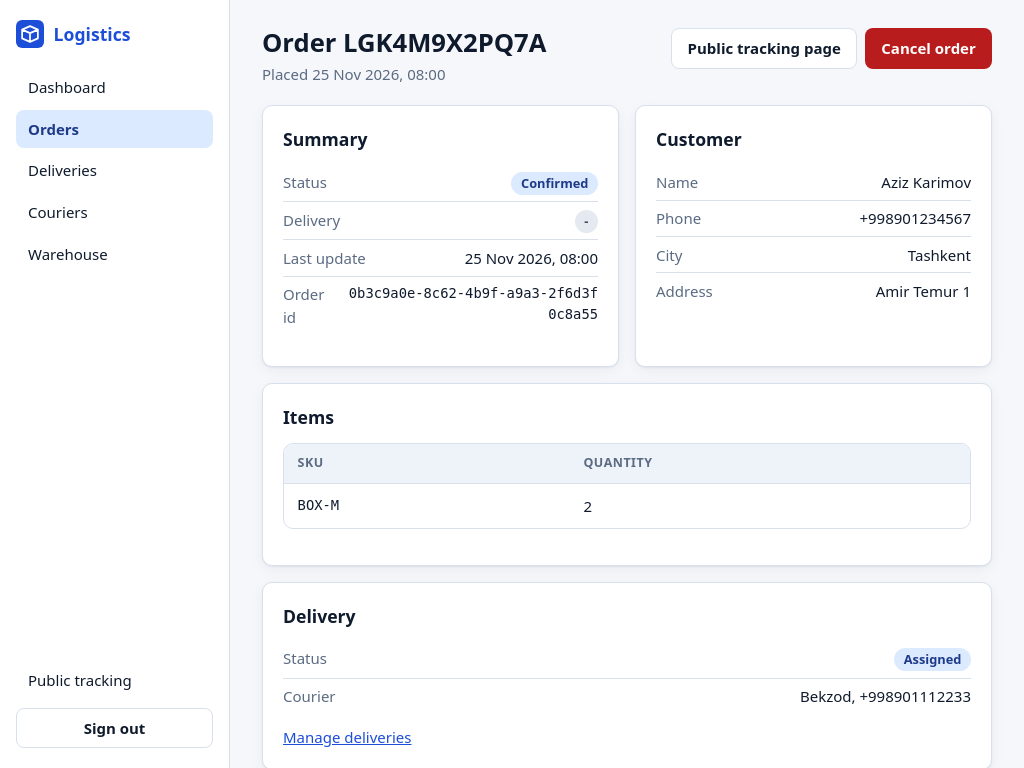
Test: order detail › cancels a confirmed order only after confirmation
Click the button "Cancel order": [929, 48] box [865,28,992,68]
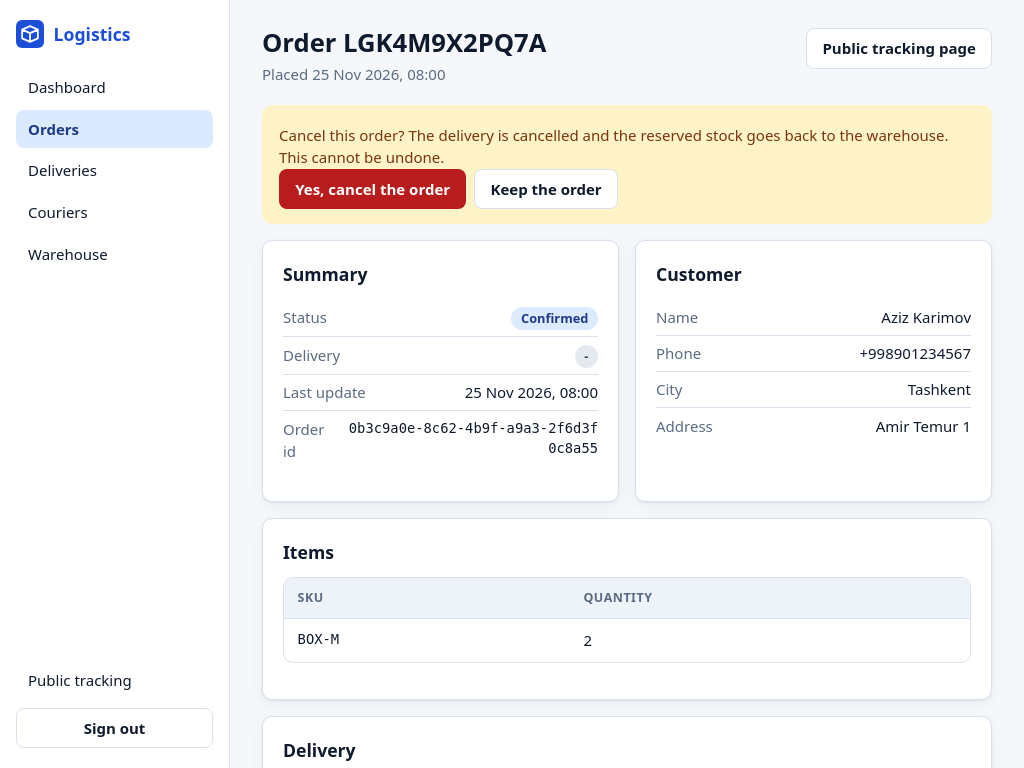
Click the button "Yes, cancel the order": [373, 189] box [279,169,466,209]
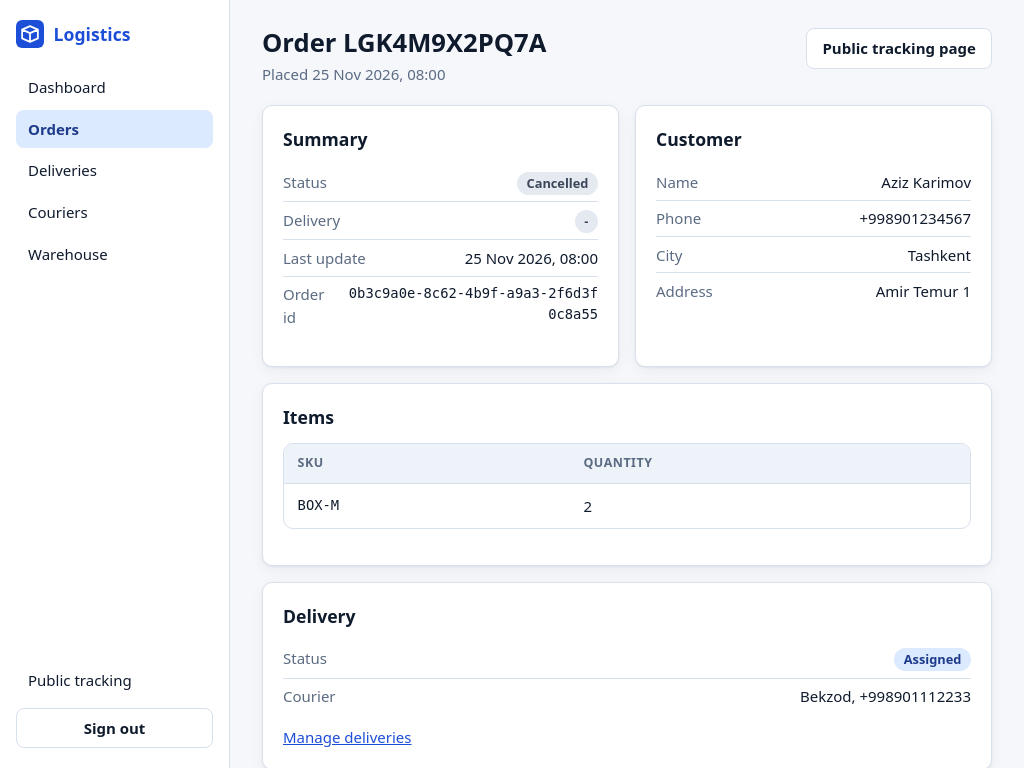
Expected: the dialog is gone
Expected: the text "Cancelled" is shown, [517,172,598,195]
